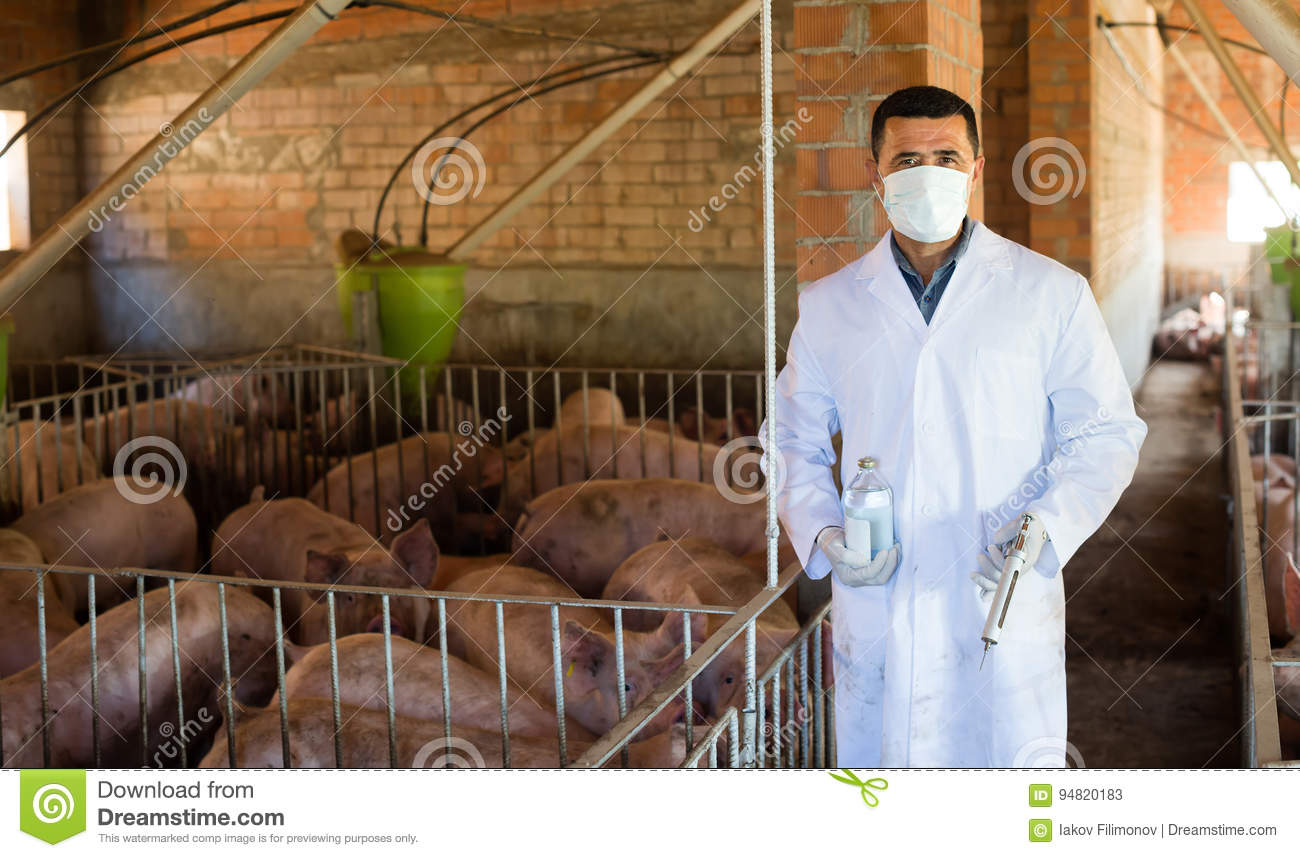mask: (884, 166, 972, 245)
